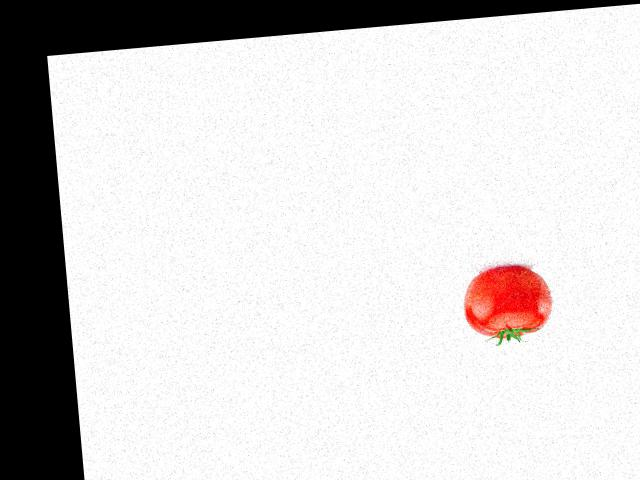tomato: (460, 264, 554, 341)
